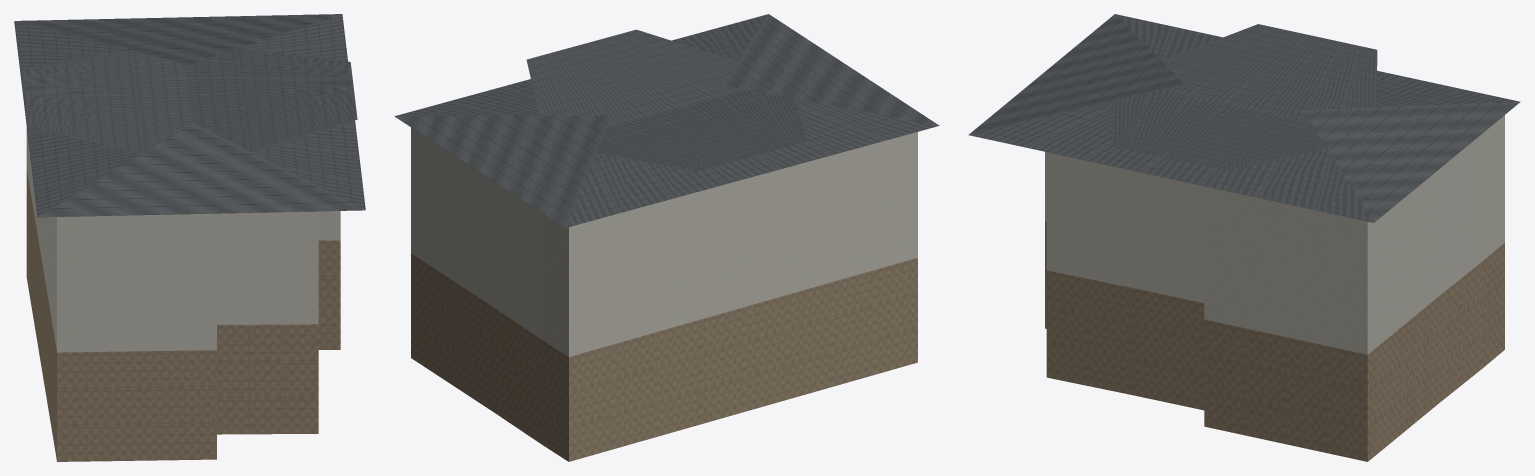
Rendered from bld_c19_43_397.gltf.
The picture shows the model from 3 angles, left to right: view 1: azimuth 30°, elevation 25°; view 2: azimuth 150°, elevation 25°; view 3: azimuth 270°, elevation 25°; orthographic projection. The views are drawn at different scales.
Visible parts, largest first — view 1: bld_c19_43_397; view 2: bld_c19_43_397; view 3: bld_c19_43_397.
Part boxes in pixels (<box>): bld_c19_43_397: <box>14,14,365,461</box>; bld_c19_43_397: <box>394,14,939,461</box>; bld_c19_43_397: <box>968,14,1520,461</box>.
Bounding box in the file's own units: 21.32 × 12.7 × 23.83.
Materials: 3 (3 with a texture image).
